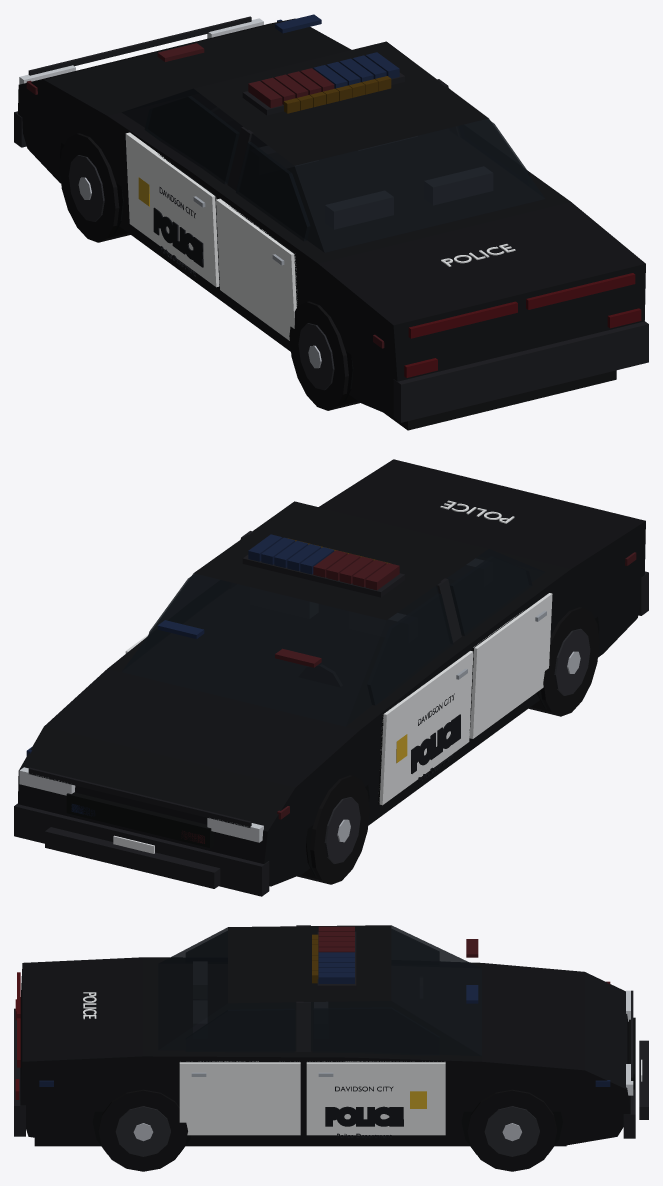
File: patrol_sedan.glb
The picture shows the model from 3 angles, top to bottom: view 1: azimuth 30°, elevation 25°; view 2: azimuth 150°, elevation 25°; view 3: azimuth 270°, elevation 25°; orthographic projection. The views are drawn at different scales.
Visible parts, largest first — view 1: Body, Door_FL, Door_RL, Wheel_FL, Wheel_RL, Interior, Taillight_L, Taillight_R, Decal_Police_FL; view 2: Body, Door_FL, Door_RL, Wheel_FL, Wheel_RL, Interior, LightBar_Housing, Decal_Police_FL, Headlight_L, Headlight_R; view 3: Body, Door_FR, Door_RR, Wheel_FR, Wheel_RR, Decal_Police_FR, Interior, ELS_CELL_9, LightBar_Housing.
Part boxes in pixels (left/top/right/bottom): Body: left=14, top=16, right=648, bottom=430; Door_FL: left=125, top=96, right=239, bottom=287; Door_RL: left=216, top=142, right=310, bottom=340; Wheel_FL: left=59, top=133, right=130, bottom=242; Wheel_RL: left=289, top=301, right=359, bottom=410; Interior: left=211, top=107, right=492, bottom=229; Taillight_L: left=408, top=301, right=517, bottom=338; Taillight_R: left=526, top=273, right=635, bottom=309; Decal_Police_FL: left=153, top=207, right=203, bottom=267; Body: left=14, top=459, right=648, bottom=896; Door_FL: left=367, top=593, right=473, bottom=805; Door_RL: left=449, top=556, right=552, bottom=738; Wheel_FL: left=297, top=775, right=369, bottom=884; Wheel_RL: left=528, top=607, right=599, bottom=716; Interior: left=250, top=558, right=483, bottom=687; LightBar_Housing: left=242, top=555, right=404, bottom=597; Decal_Police_FL: left=411, top=714, right=460, bottom=773; Headlight_L: left=207, top=818, right=263, bottom=842; Headlight_R: left=19, top=767, right=75, bottom=795; Body: left=14, top=925, right=648, bottom=1154; Door_FR: left=306, top=1007, right=445, bottom=1135; Door_RR: left=179, top=1008, right=300, bottom=1135; Wheel_FR: left=467, top=1089, right=556, bottom=1171; Wheel_RR: left=98, top=1089, right=187, bottom=1171; Decal_Police_FR: left=325, top=1106, right=403, bottom=1126; Interior: left=193, top=961, right=422, bottom=1032; ELS_CELL_9: left=318, top=972, right=354, bottom=983; LightBar_Housing: left=317, top=931, right=356, bottom=989.
Size of the model in its own units: 2.03 by 1.55 by 5.25.
